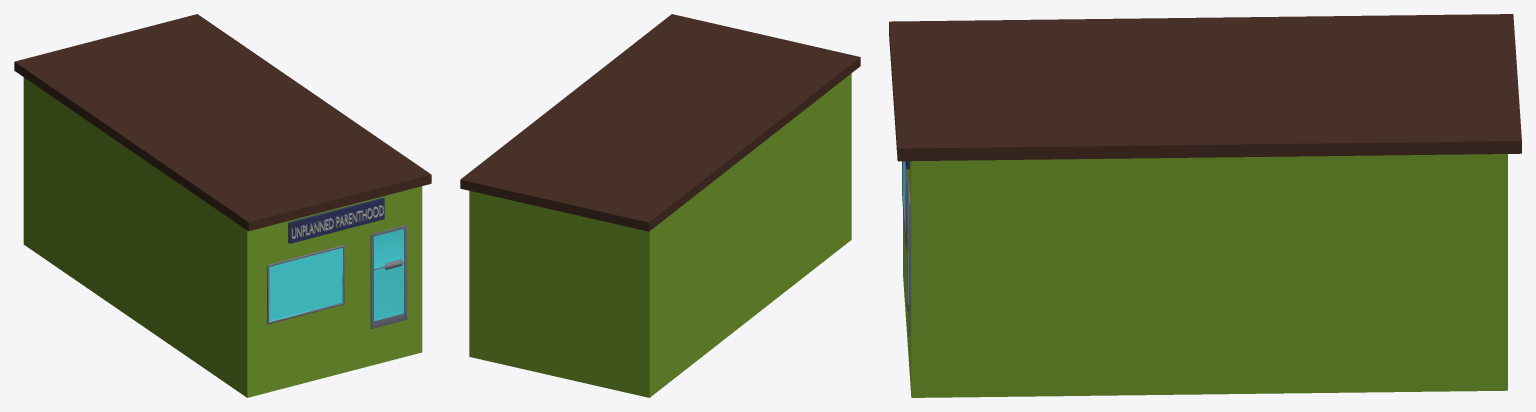
The model's file is unplannedparenthood_compressed.glb.
3 views of the same model, side by side, from view 1: azimuth 30°, elevation 25°; view 2: azimuth 150°, elevation 25°; view 3: azimuth 270°, elevation 25° (orthographic). The views are drawn at different scales.
Visible parts, largest first — view 1: Cube.348, Cube.350, Cube.349, Text.011; view 2: Cube.348; view 3: Cube.348, Cube.350.
Boxes of the visible parts, left/top/right/bottom form: Cube.348: left=14, top=14, right=431, bottom=397; Cube.350: left=267, top=225, right=407, bottom=328; Cube.349: left=288, top=197, right=384, bottom=243; Text.011: left=291, top=205, right=383, bottom=238; Cube.348: left=460, top=14, right=860, bottom=397; Cube.348: left=889, top=14, right=1521, bottom=397; Cube.350: left=902, top=161, right=910, bottom=335.
Bounding box in the file's own units: 1.63 × 1.42 × 3.23.
